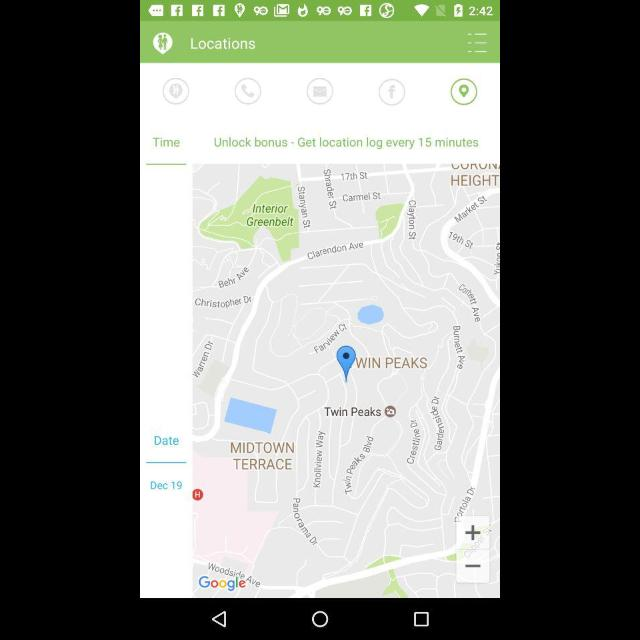icon: (448, 77, 478, 106), (306, 77, 334, 106), (234, 77, 262, 105), (378, 80, 408, 106), (162, 78, 190, 104), (464, 30, 490, 56), (152, 33, 174, 57), (212, 610, 228, 628), (312, 610, 328, 628), (413, 610, 429, 628), (466, 524, 480, 540), (466, 562, 480, 570)
map: (191, 166, 497, 596)
panel: (142, 65, 498, 163), (142, 165, 192, 600), (141, 22, 499, 62), (142, 600, 498, 638)
text: (213, 136, 482, 150), (188, 36, 258, 52), (148, 478, 188, 494), (150, 432, 182, 450), (152, 136, 182, 152)
uppertaskbar: (141, 1, 499, 19)
